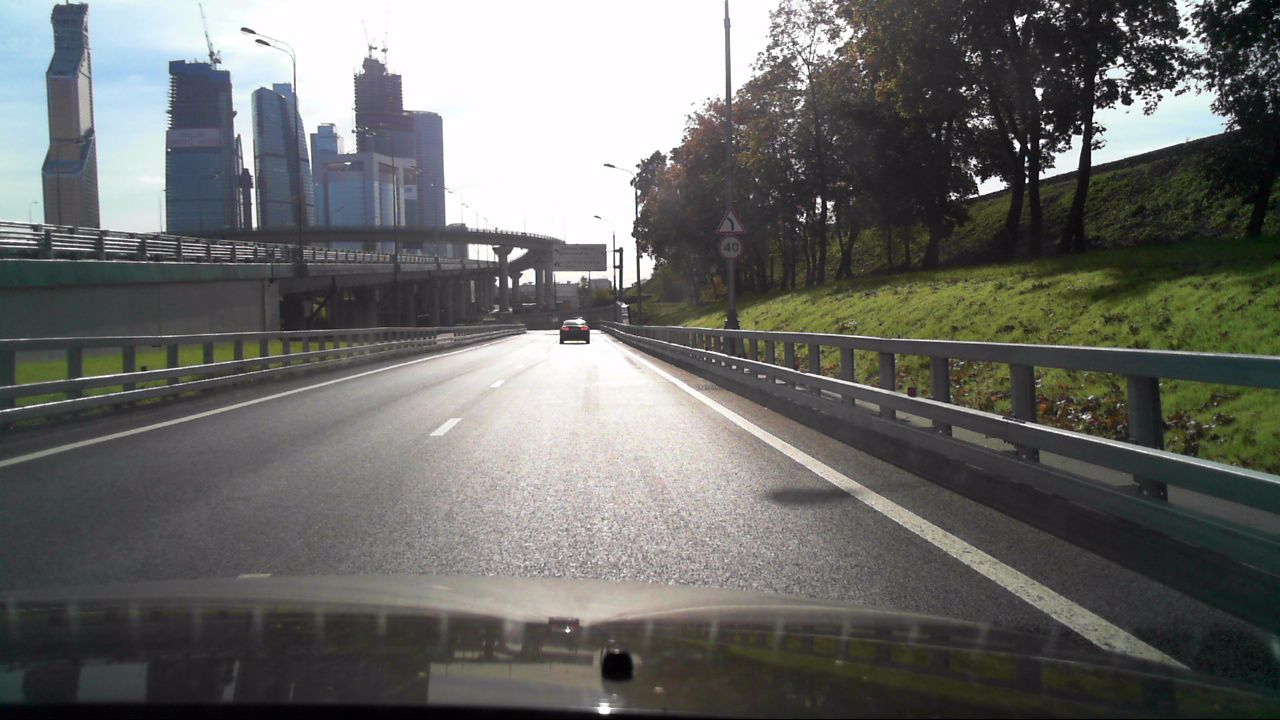speed_warning_40: (718, 235, 743, 262)
